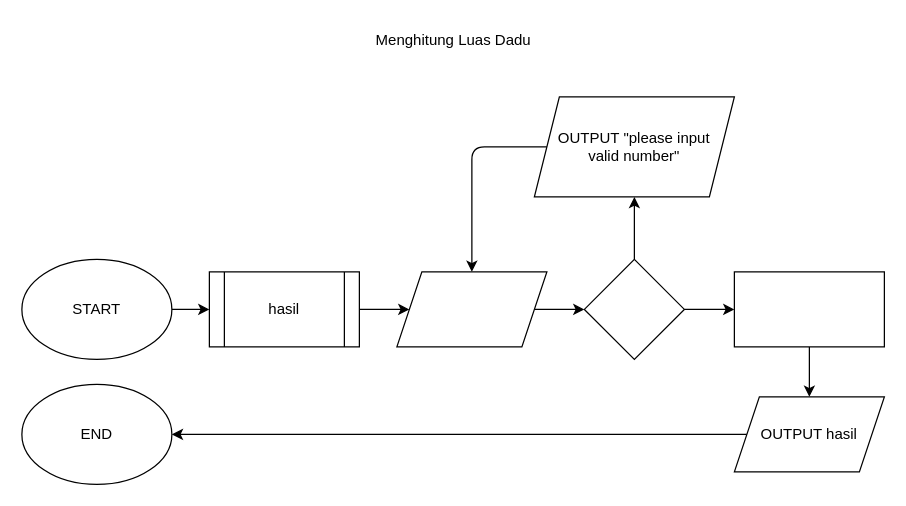
Image size: 906x506. Some labels were removed from this diagram. The centre of each missing label's shape, as x and y in pixels:
"hasil = 6*s*s" goes at point (808, 309).
"INPUT s" goes at point (471, 309).
"s === num" goes at point (633, 308).
